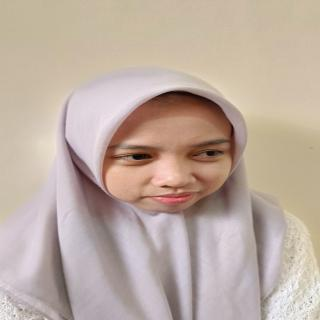Takut: (102, 90, 241, 223)
